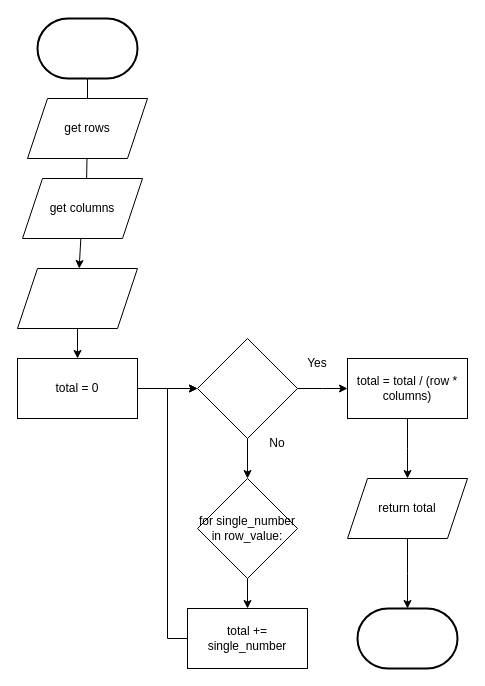
Image size: 485x686. Some labels were removed from this diagram. The shapes that lost their labels are listed below. From the top down, each one's centre as x and y in pixels, then its label:
At point (87, 48): "Start".
At point (77, 298): "get passed_list".
At point (247, 388): "for row_value in passed_list:".
At point (407, 638): "Stop".
